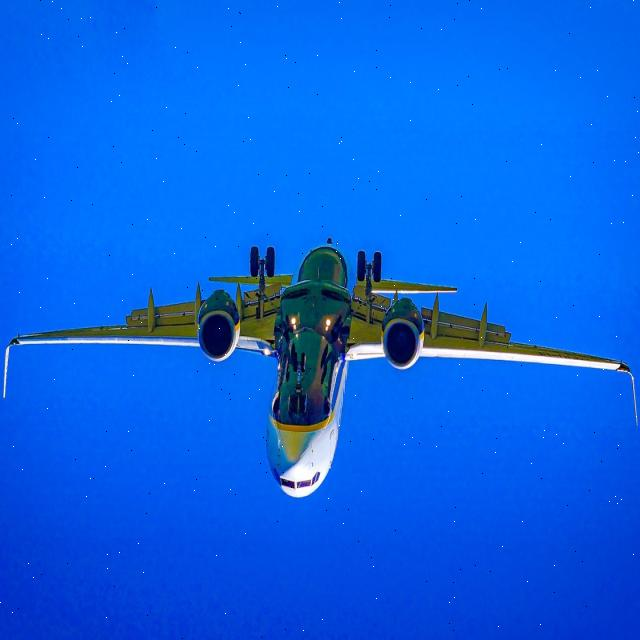aircraft: (2, 184, 640, 546)
